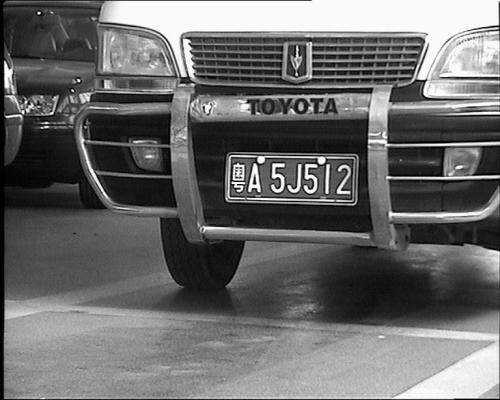Carplate: (222, 147, 363, 210)
